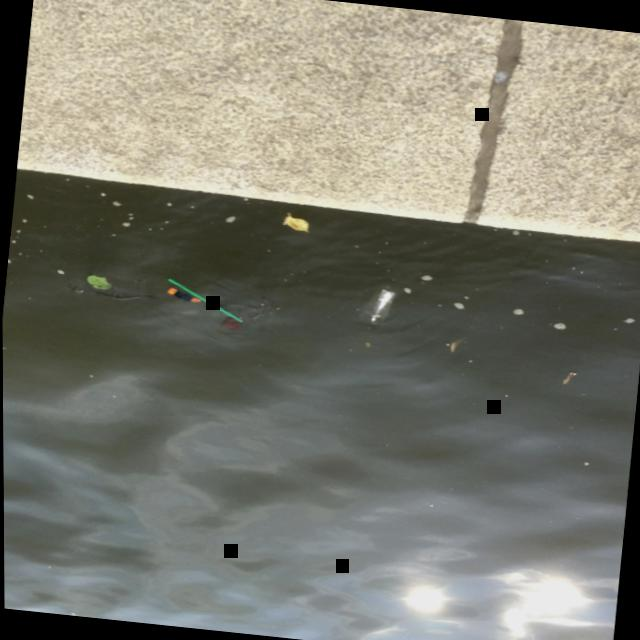Disposable plastic cup: (358, 286, 395, 323)
Other plastic bottle: (166, 286, 199, 301)
Plastic straw: (166, 277, 242, 321)
